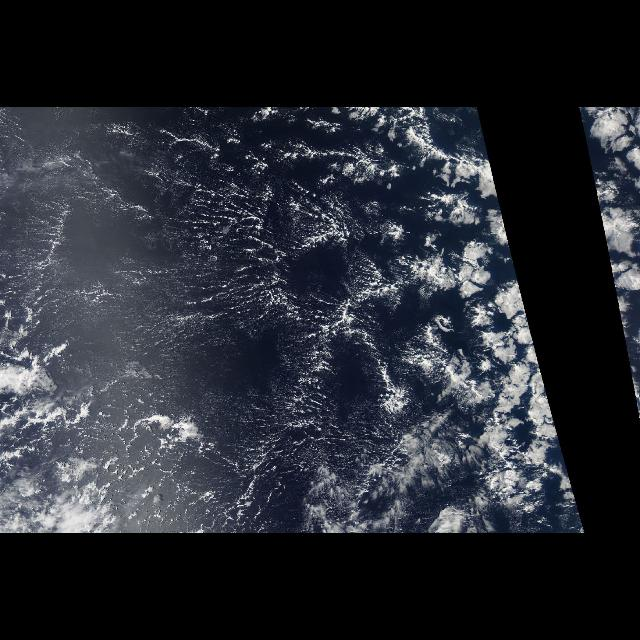Flower: (360, 107, 564, 467), (578, 108, 640, 402)
Sugar: (3, 107, 289, 377)
